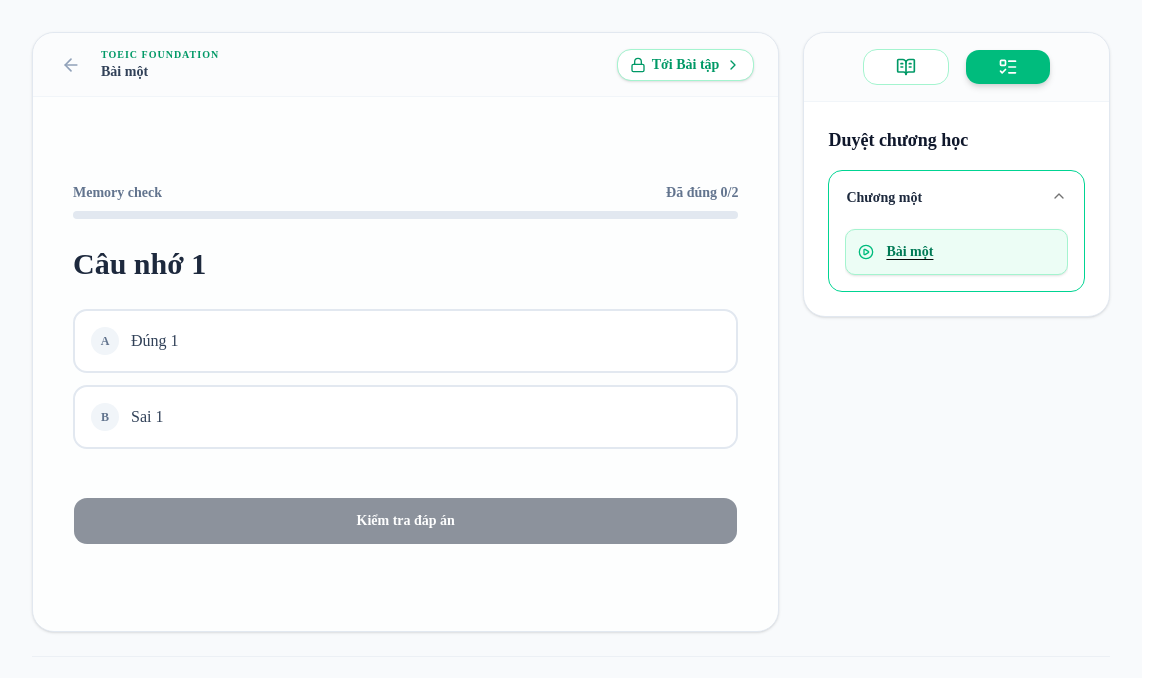
Test: D3 memory check stage › starts at the memory check when the topic has no cards and requeues a wrong answer
expect the text "Đã đúng 0/2" is shown: met, box x1=666 y1=183 x2=738 y2=203
Click the radio button labelled "B Sai 1" at (147, 416), box x1=73 y1=385 x2=738 y2=449
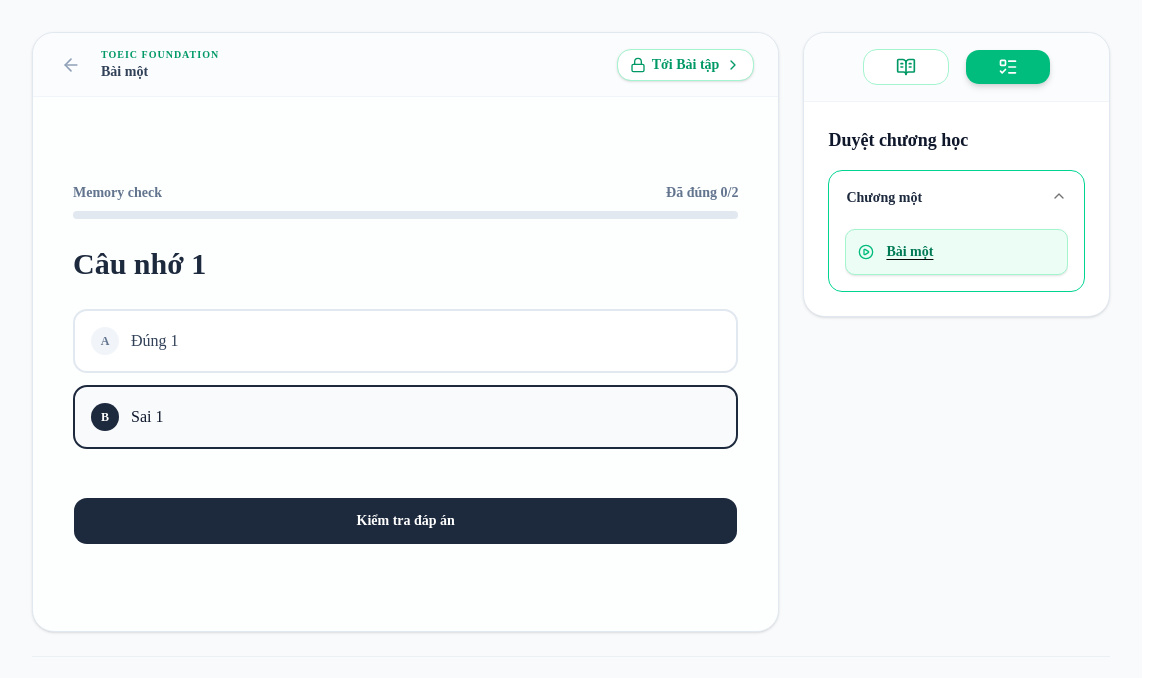
Click the button "Kiểm tra đáp án" at (406, 521), box x1=73 y1=497 x2=738 y2=545
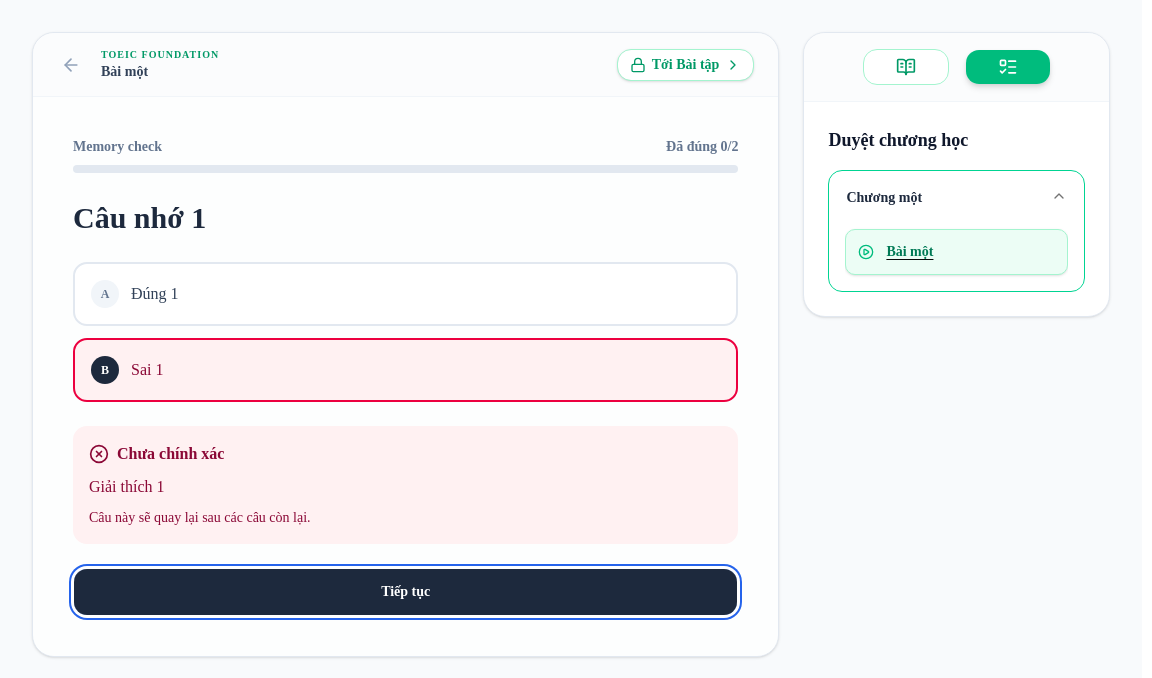
expect the text "Chưa chính xác" is shown: met, box x1=89 y1=444 x2=224 y2=464
expect the text "Giải thích 1" is shown: met, box x1=89 y1=478 x2=164 y2=495
expect the text "Câu này sẽ quay lại sau các câu còn lại." is shown: met, box x1=89 y1=510 x2=311 y2=525
Click the button "Tiếp tục" at (406, 592), box x1=73 y1=568 x2=738 y2=616
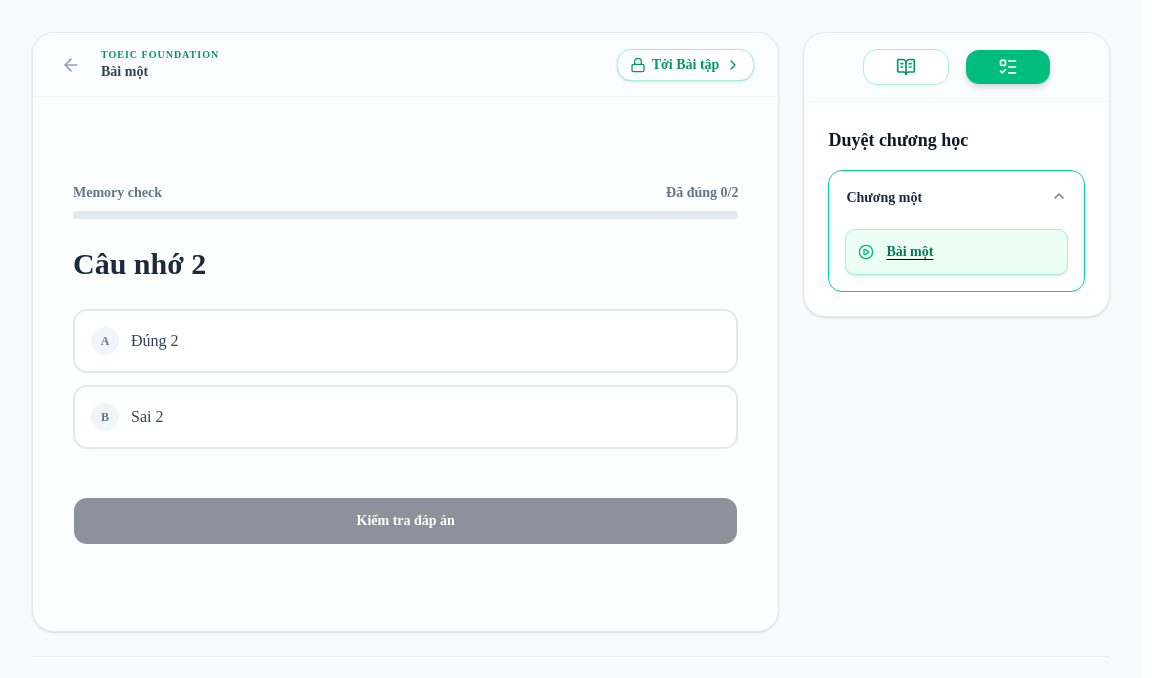
expect the heading "Câu nhớ 2" is shown: met, box x1=73 y1=247 x2=206 y2=280
Click the radio button labelled "A Đúng 2" at (155, 340), box x1=73 y1=309 x2=738 y2=373
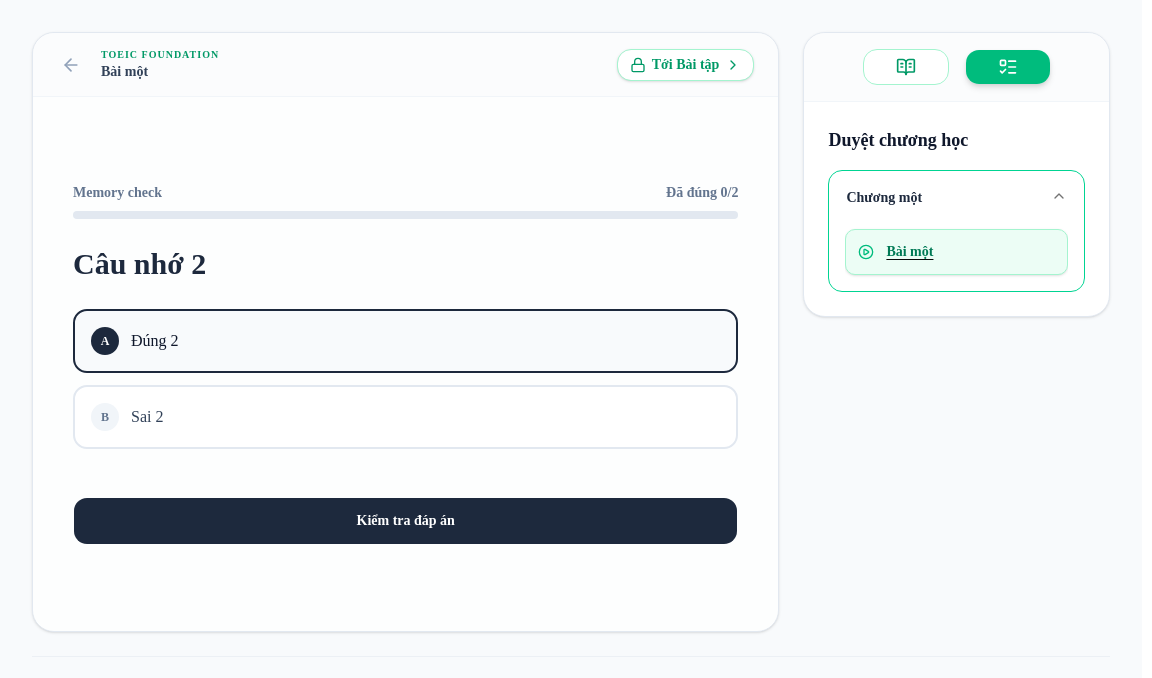
Click the button "Kiểm tra đáp án" at (406, 521), box x1=73 y1=497 x2=738 y2=545
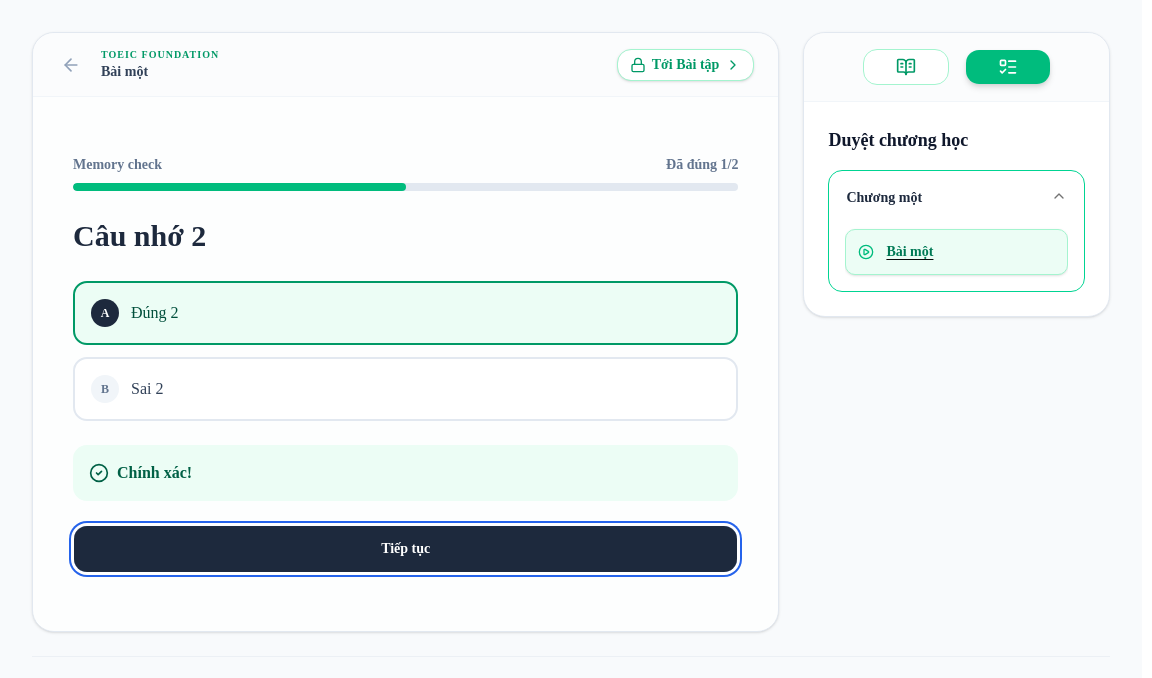
expect the text "Chính xác!" is shown: met, box x1=73 y1=445 x2=738 y2=501
expect the text "Đã đúng 1/2" is shown: met, box x1=666 y1=155 x2=738 y2=175
Click the button "Tiếp tục" at (406, 549), box x1=73 y1=525 x2=738 y2=573
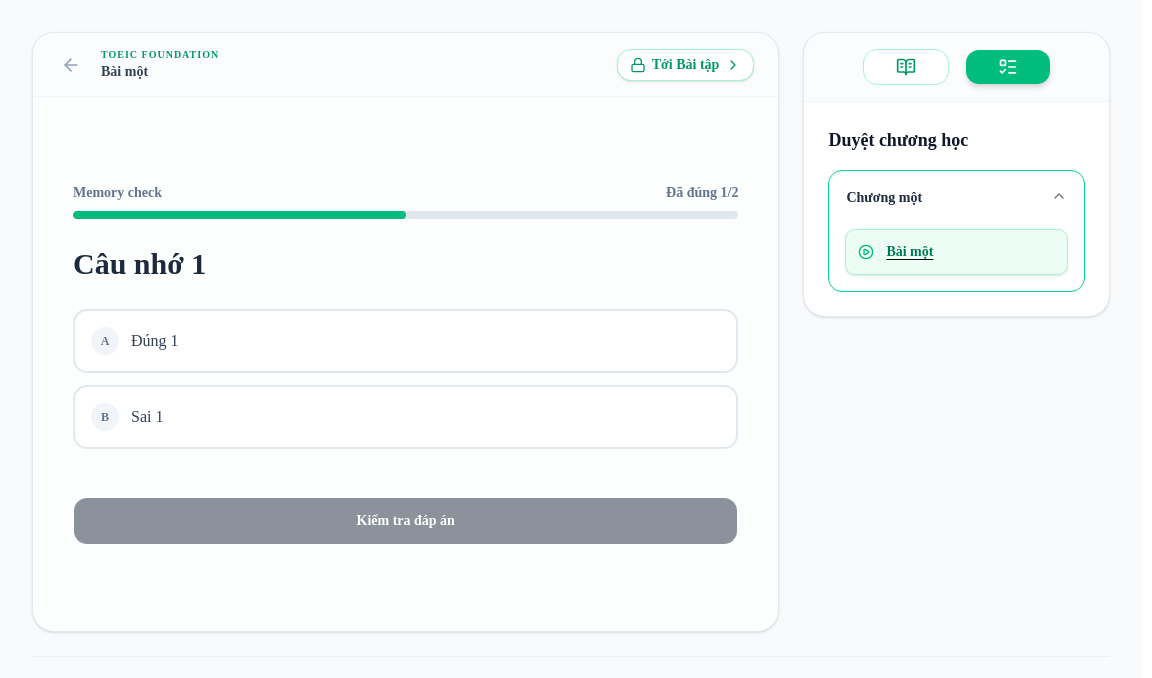
expect the heading "Câu nhớ 1" is shown: met, box x1=73 y1=247 x2=206 y2=280
